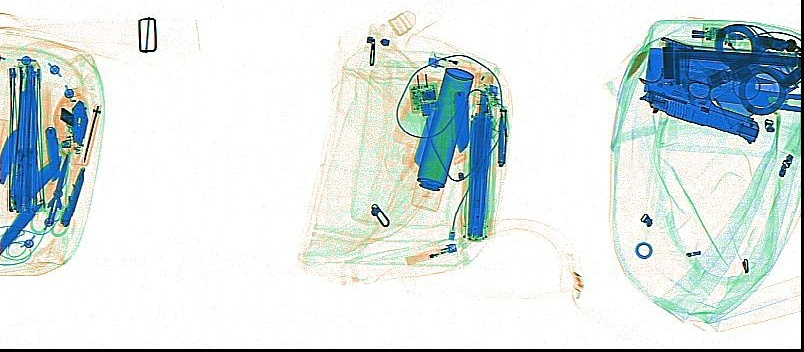handcuffs: (713, 21, 799, 113)
knife: (644, 43, 799, 111), (1, 171, 57, 255), (8, 153, 64, 202), (76, 105, 101, 167), (59, 167, 84, 227), (450, 89, 470, 154), (40, 124, 59, 182), (1, 126, 18, 183), (494, 105, 508, 167)
lighter: (405, 241, 458, 264), (426, 49, 476, 73)
pressure: (414, 66, 473, 190)
scissors: (667, 46, 774, 91)
